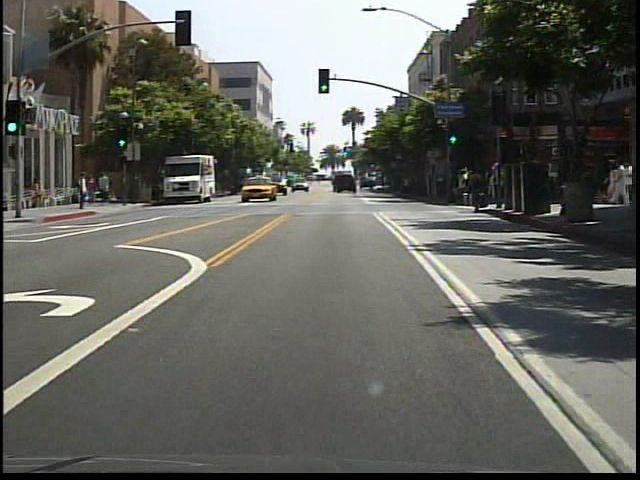person: (76, 170, 91, 212), (97, 169, 114, 205), (35, 177, 48, 208), (87, 174, 99, 205)
